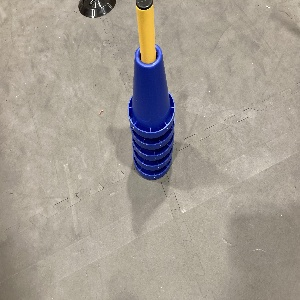Blue_5: (121, 38, 180, 182)
